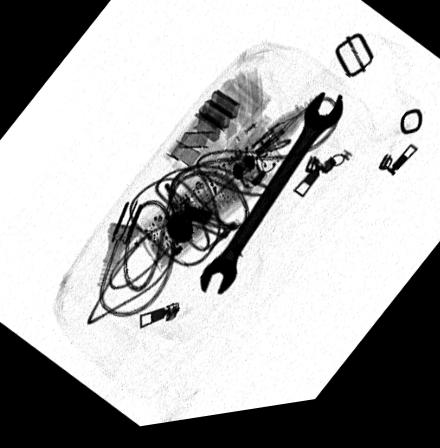Wrench: (198, 99, 346, 302)
